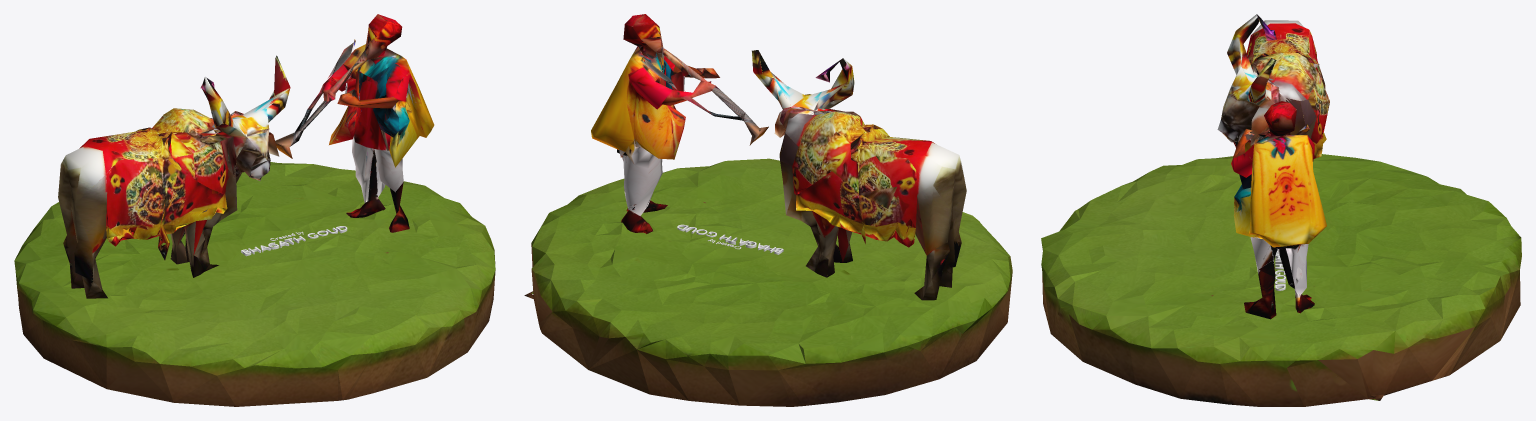
The model's file is sankranti_cow_-_low_poly_-_south_indian_festival.glb.
The picture shows the model from 3 angles, left to right: view 1: azimuth 30°, elevation 25°; view 2: azimuth 150°, elevation 25°; view 3: azimuth 270°, elevation 25°; orthographic projection.
Parts seen in each view (by area): view 1: Grass, Cow, Man, BhagathGoud; view 2: Grass, Cow, Man, BhagathGoud; view 3: Grass, Man, Cow.
Boxes of the visible parts, x1,y1,x2,y2 form: Grass: (14,162,495,406); Cow: (58,55,290,298); Man: (275,14,434,232); BhagathGoud: (241,226,347,256); Grass: (524,158,1012,406); Cow: (752,50,966,300); Man: (591,14,768,233); BhagathGoud: (677,224,783,254); Grass: (1041,154,1521,406); Man: (1231,101,1326,319); Cow: (1217,14,1329,158).
Bounding box in the file's own units: 3.79 × 2.21 × 3.64.
4 materials, 3 textured.
